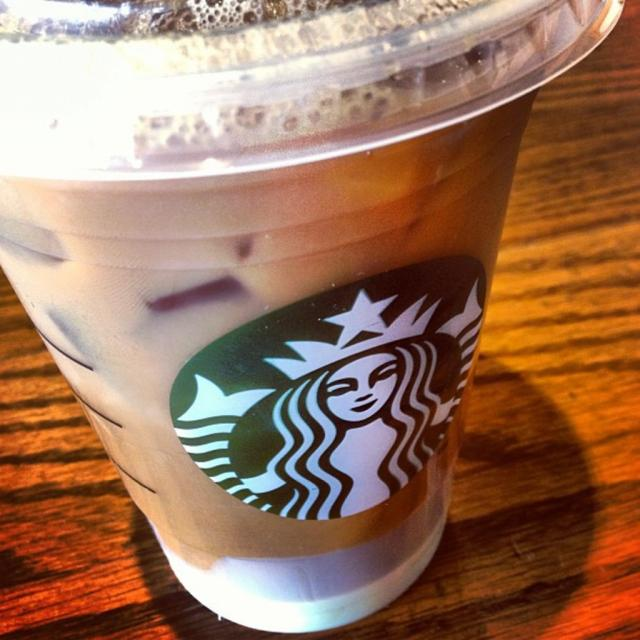Coffee: (0, 32, 595, 632)
